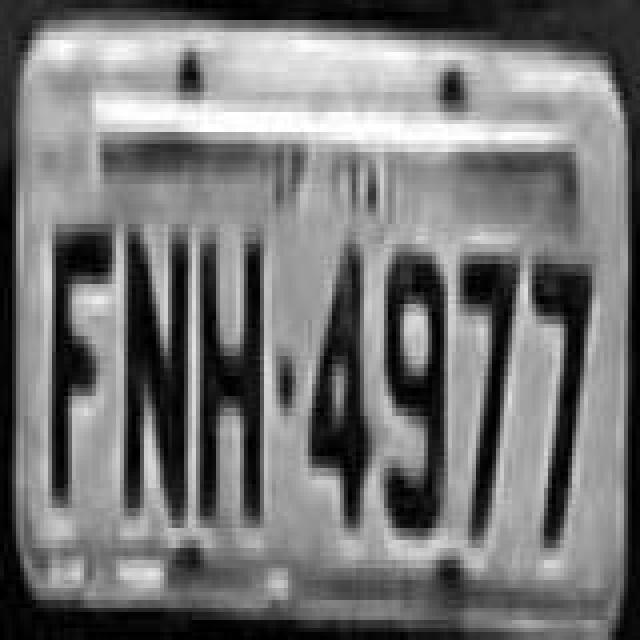4: (302, 236, 370, 532)
7: (526, 248, 594, 552), (454, 248, 522, 544)
9: (380, 244, 452, 540)
F: (46, 226, 114, 510)
H: (198, 228, 266, 524)
N: (120, 228, 192, 524)
